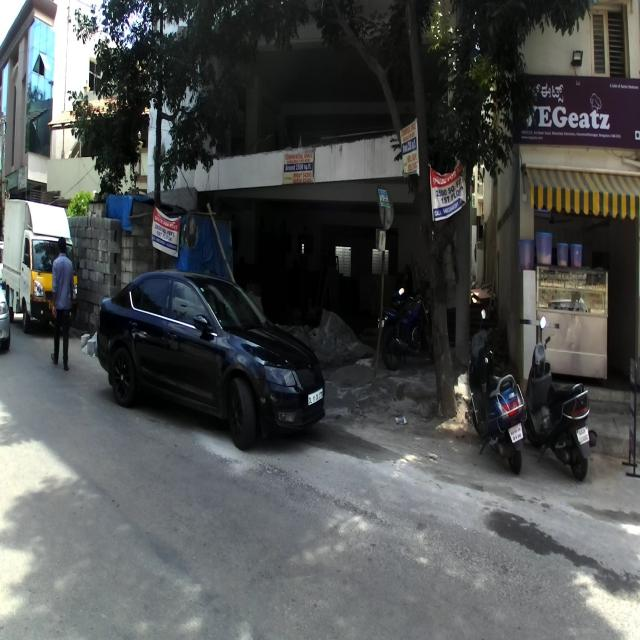car: (95, 268, 328, 452)
motorcycle: (375, 268, 433, 368)
scooter: (522, 314, 597, 480), (467, 309, 527, 476)
truck: (0, 199, 78, 333)
